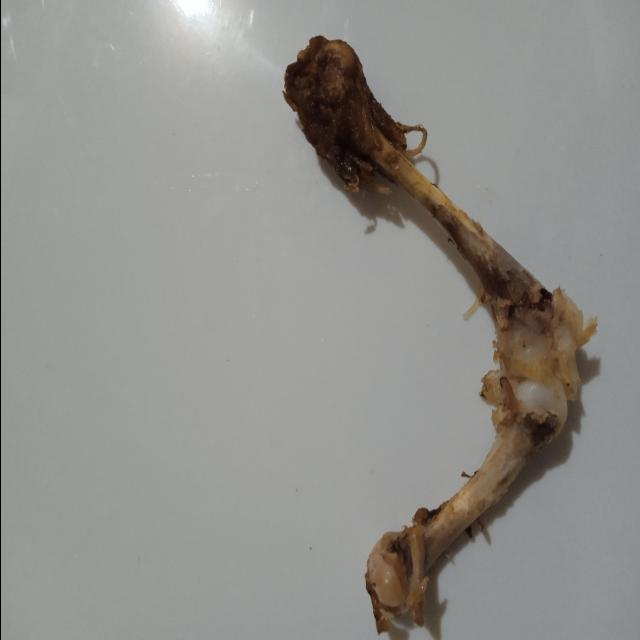bone: (270, 16, 606, 640)
